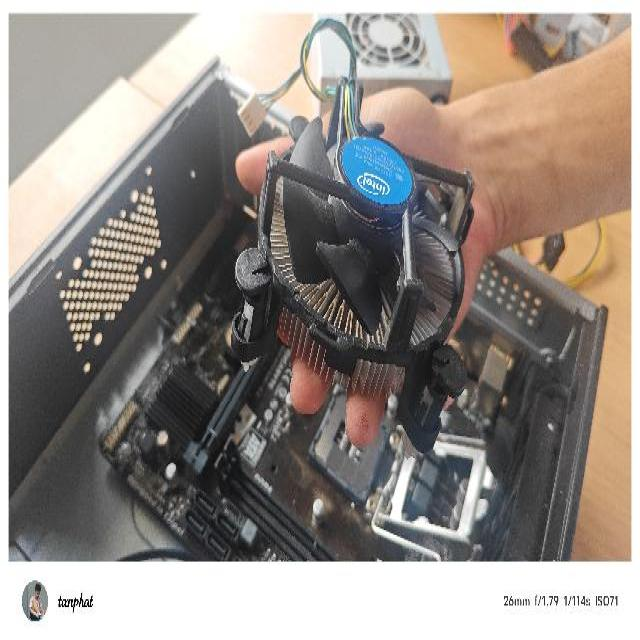CPU_Fan: (228, 33, 474, 461)
